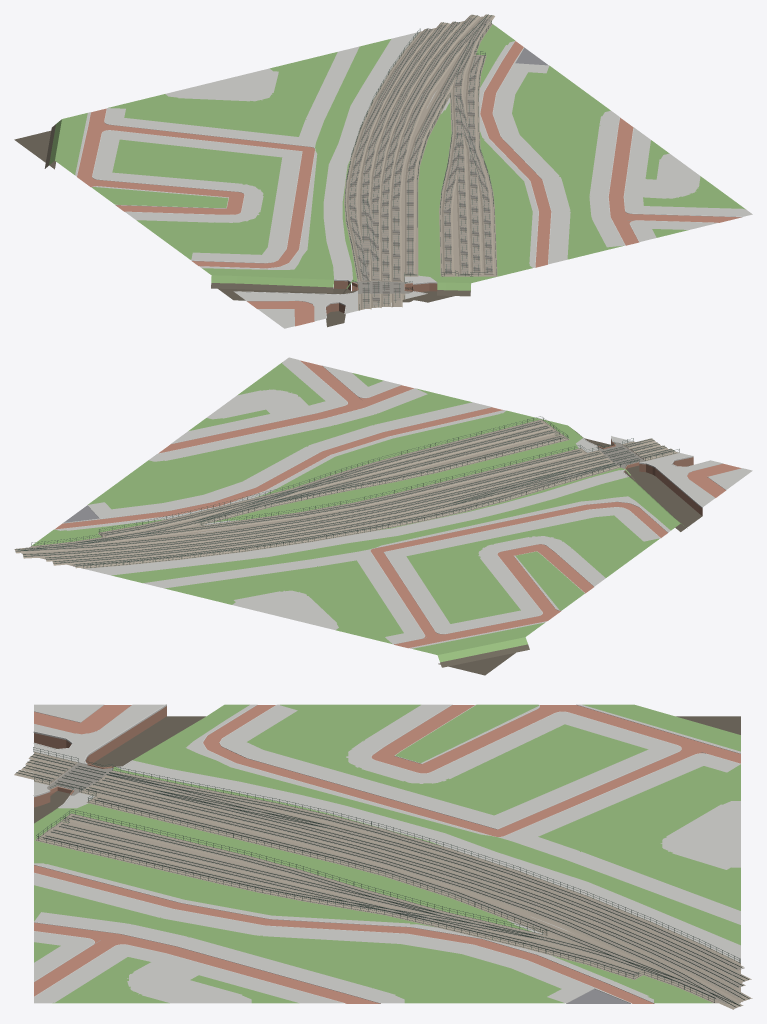
The model's file is ground_4_7.glb.
3 views of the same model, one above another, from view 1: azimuth 30°, elevation 25°; view 2: azimuth 150°, elevation 25°; view 3: azimuth 270°, elevation 25° (orthographic). The views are drawn at different scales.
Parts seen in each view (by area): view 1: ground_4_7; view 2: ground_4_7; view 3: ground_4_7.
Part boxes in pixels (x1,y1,x2,y2): ground_4_7: (14,14,752,328); ground_4_7: (14,357,752,675); ground_4_7: (14,704,752,1009).
Bounding box in the file's own units: 207 × 5.17 × 209.
